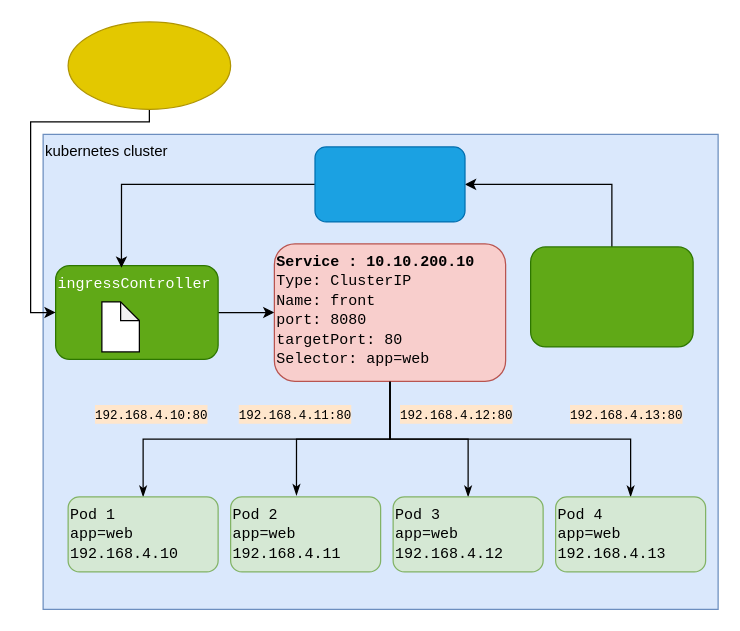
Some shapes in this 740 by 631 pixel diagram are drawn without their labels. The shapes that lost their labels are listed below. From the top down, each one's centre as x and y in pixels, then its label:
At (149,65): "curl http://front.caas.fr".
At (389,184): "kube-api Server".
At (611,296): "ingress Host: front.caas.fr Path: / serviceName: front servicePort: 8080".
At (120,326): "conf".
